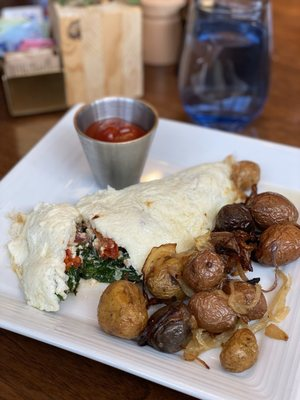pizza: (177, 0, 271, 132)
